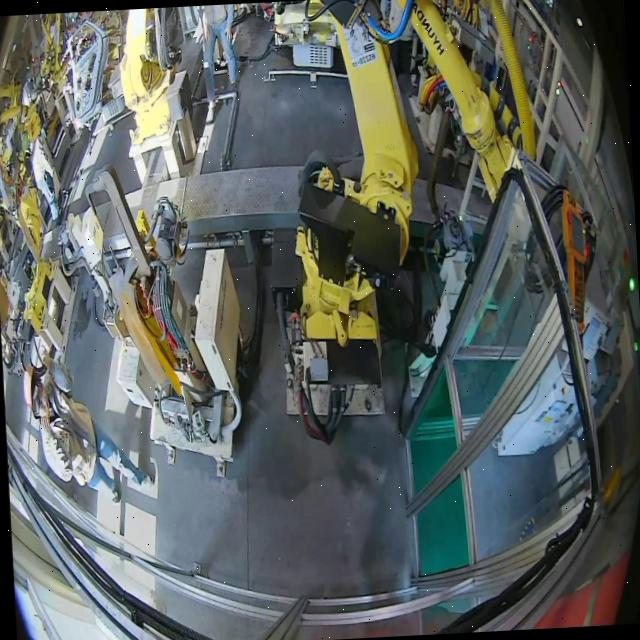Person: (22, 331, 154, 509), (192, 4, 242, 125)
